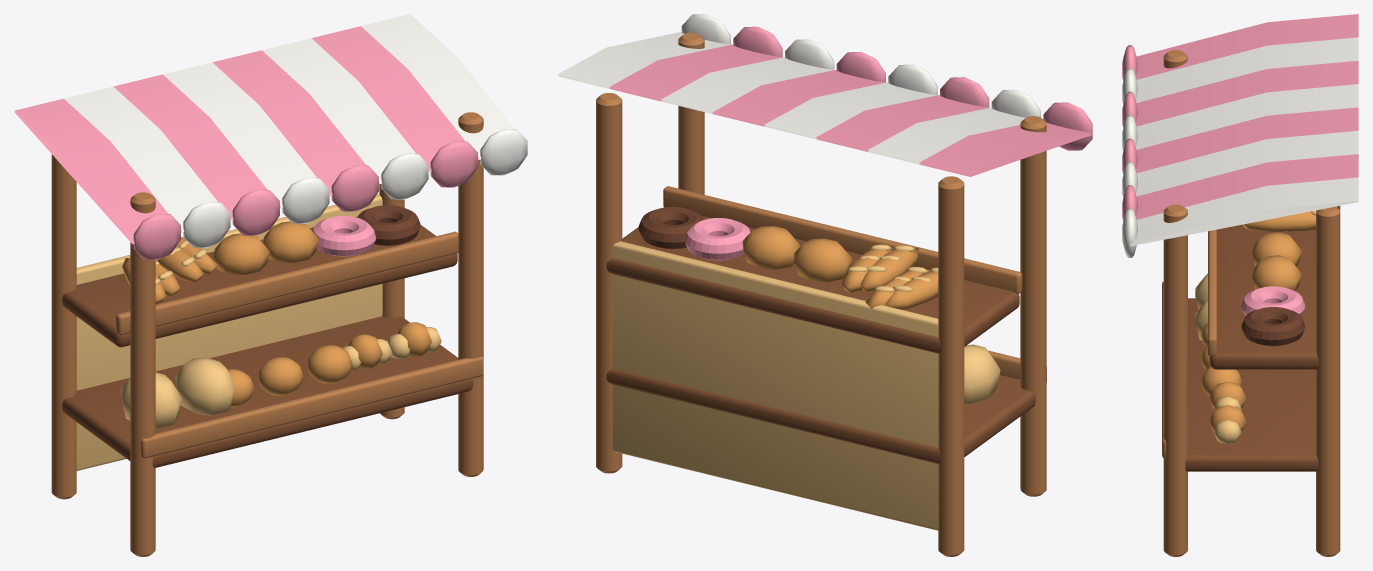
The model's file is bread_stand.fbx.
3 views of the same model, side by side, from view 1: azimuth 30°, elevation 25°; view 2: azimuth 150°, elevation 25°; view 3: azimuth 270°, elevation 25° (orthographic). The views are drawn at different scales.
Parts seen in each view (by area): view 1: bread_stand_Wood, bread_stand_Pink, bread_stand_White, bread_stand_WoodDark, bread_stand_CrustLight, bread_stand_Crust, bread_stand_Choc; view 2: bread_stand_CrustLight, bread_stand_Wood, bread_stand_Pink, bread_stand_WoodDark, bread_stand_White, bread_stand_Crust, bread_stand_Choc; view 3: bread_stand_White, bread_stand_Pink, bread_stand_WoodDark, bread_stand_Wood, bread_stand_Crust, bread_stand_Choc, bread_stand_CrustLight.
Boxes of the visible parts, x1,y1,x2,y2 form: bread_stand_Wood: (51,112,483,556); bread_stand_Pink: (14,26,478,260); bread_stand_White: (64,14,528,248); bread_stand_WoodDark: (62,216,473,467); bread_stand_CrustLight: (76,194,441,470); bread_stand_Crust: (122,221,431,407); bread_stand_Choc: (357,205,420,245); bread_stand_CrustLight: (612,241,1000,530); bread_stand_Wood: (596,32,1046,556); bread_stand_Pink: (609,26,1093,260); bread_stand_WoodDark: (606,216,1035,463); bread_stand_White: (557,14,1040,164); bread_stand_Crust: (742,226,938,309); bread_stand_Choc: (638,206,704,249); bread_stand_White: (1122,37,1358,257); bread_stand_Pink: (1122,14,1358,315); bread_stand_WoodDark: (1185,206,1339,471); bread_stand_Wood: (1162,50,1340,556); bread_stand_Crust: (1201,211,1315,431); bread_stand_Choc: (1241,307,1305,346); bread_stand_CrustLight: (1195,206,1336,444).
Bounding box in the file's own units: 29 × 26.7 × 15.52.
